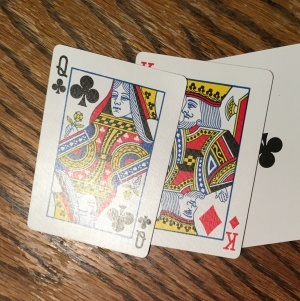card: (26, 43, 187, 258), (153, 54, 273, 260)
